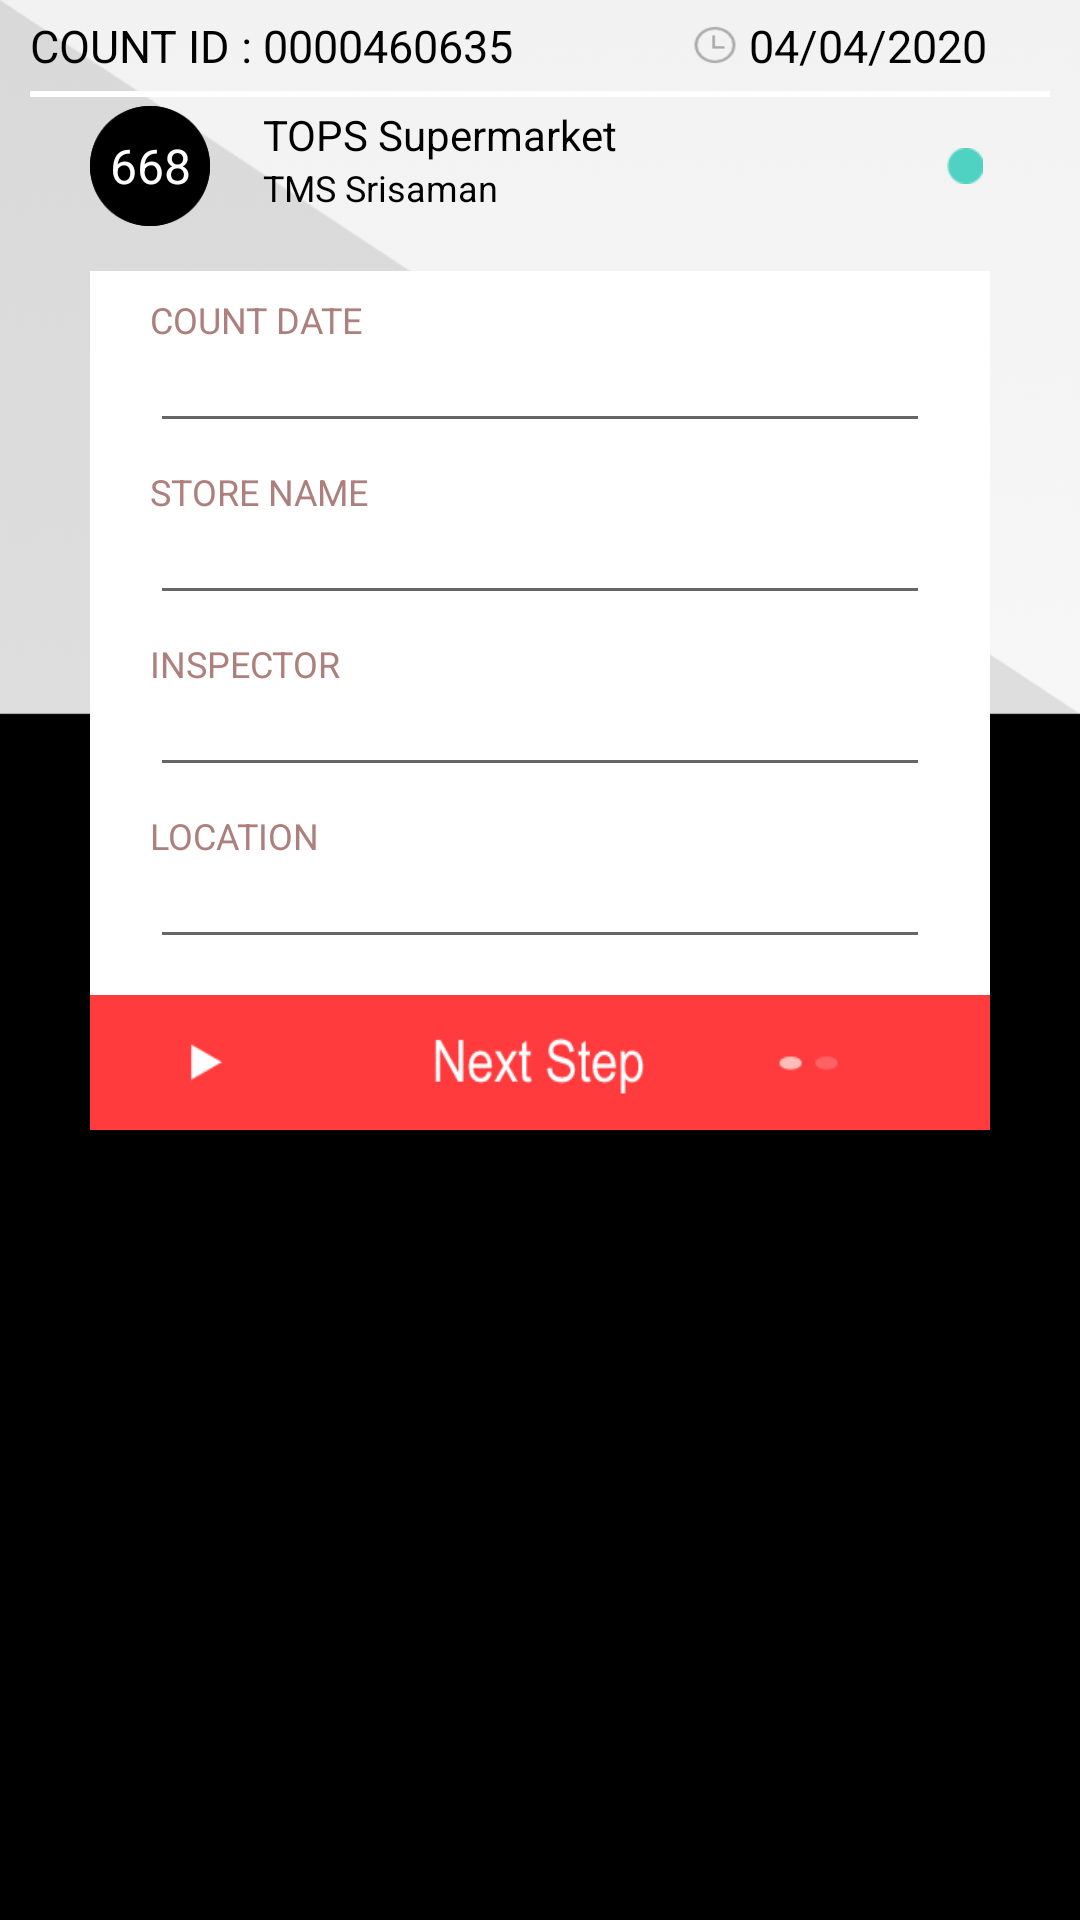

Icon click points for this 1080×1920 phone screenshot, format [x,y]:
time: [715,45]
